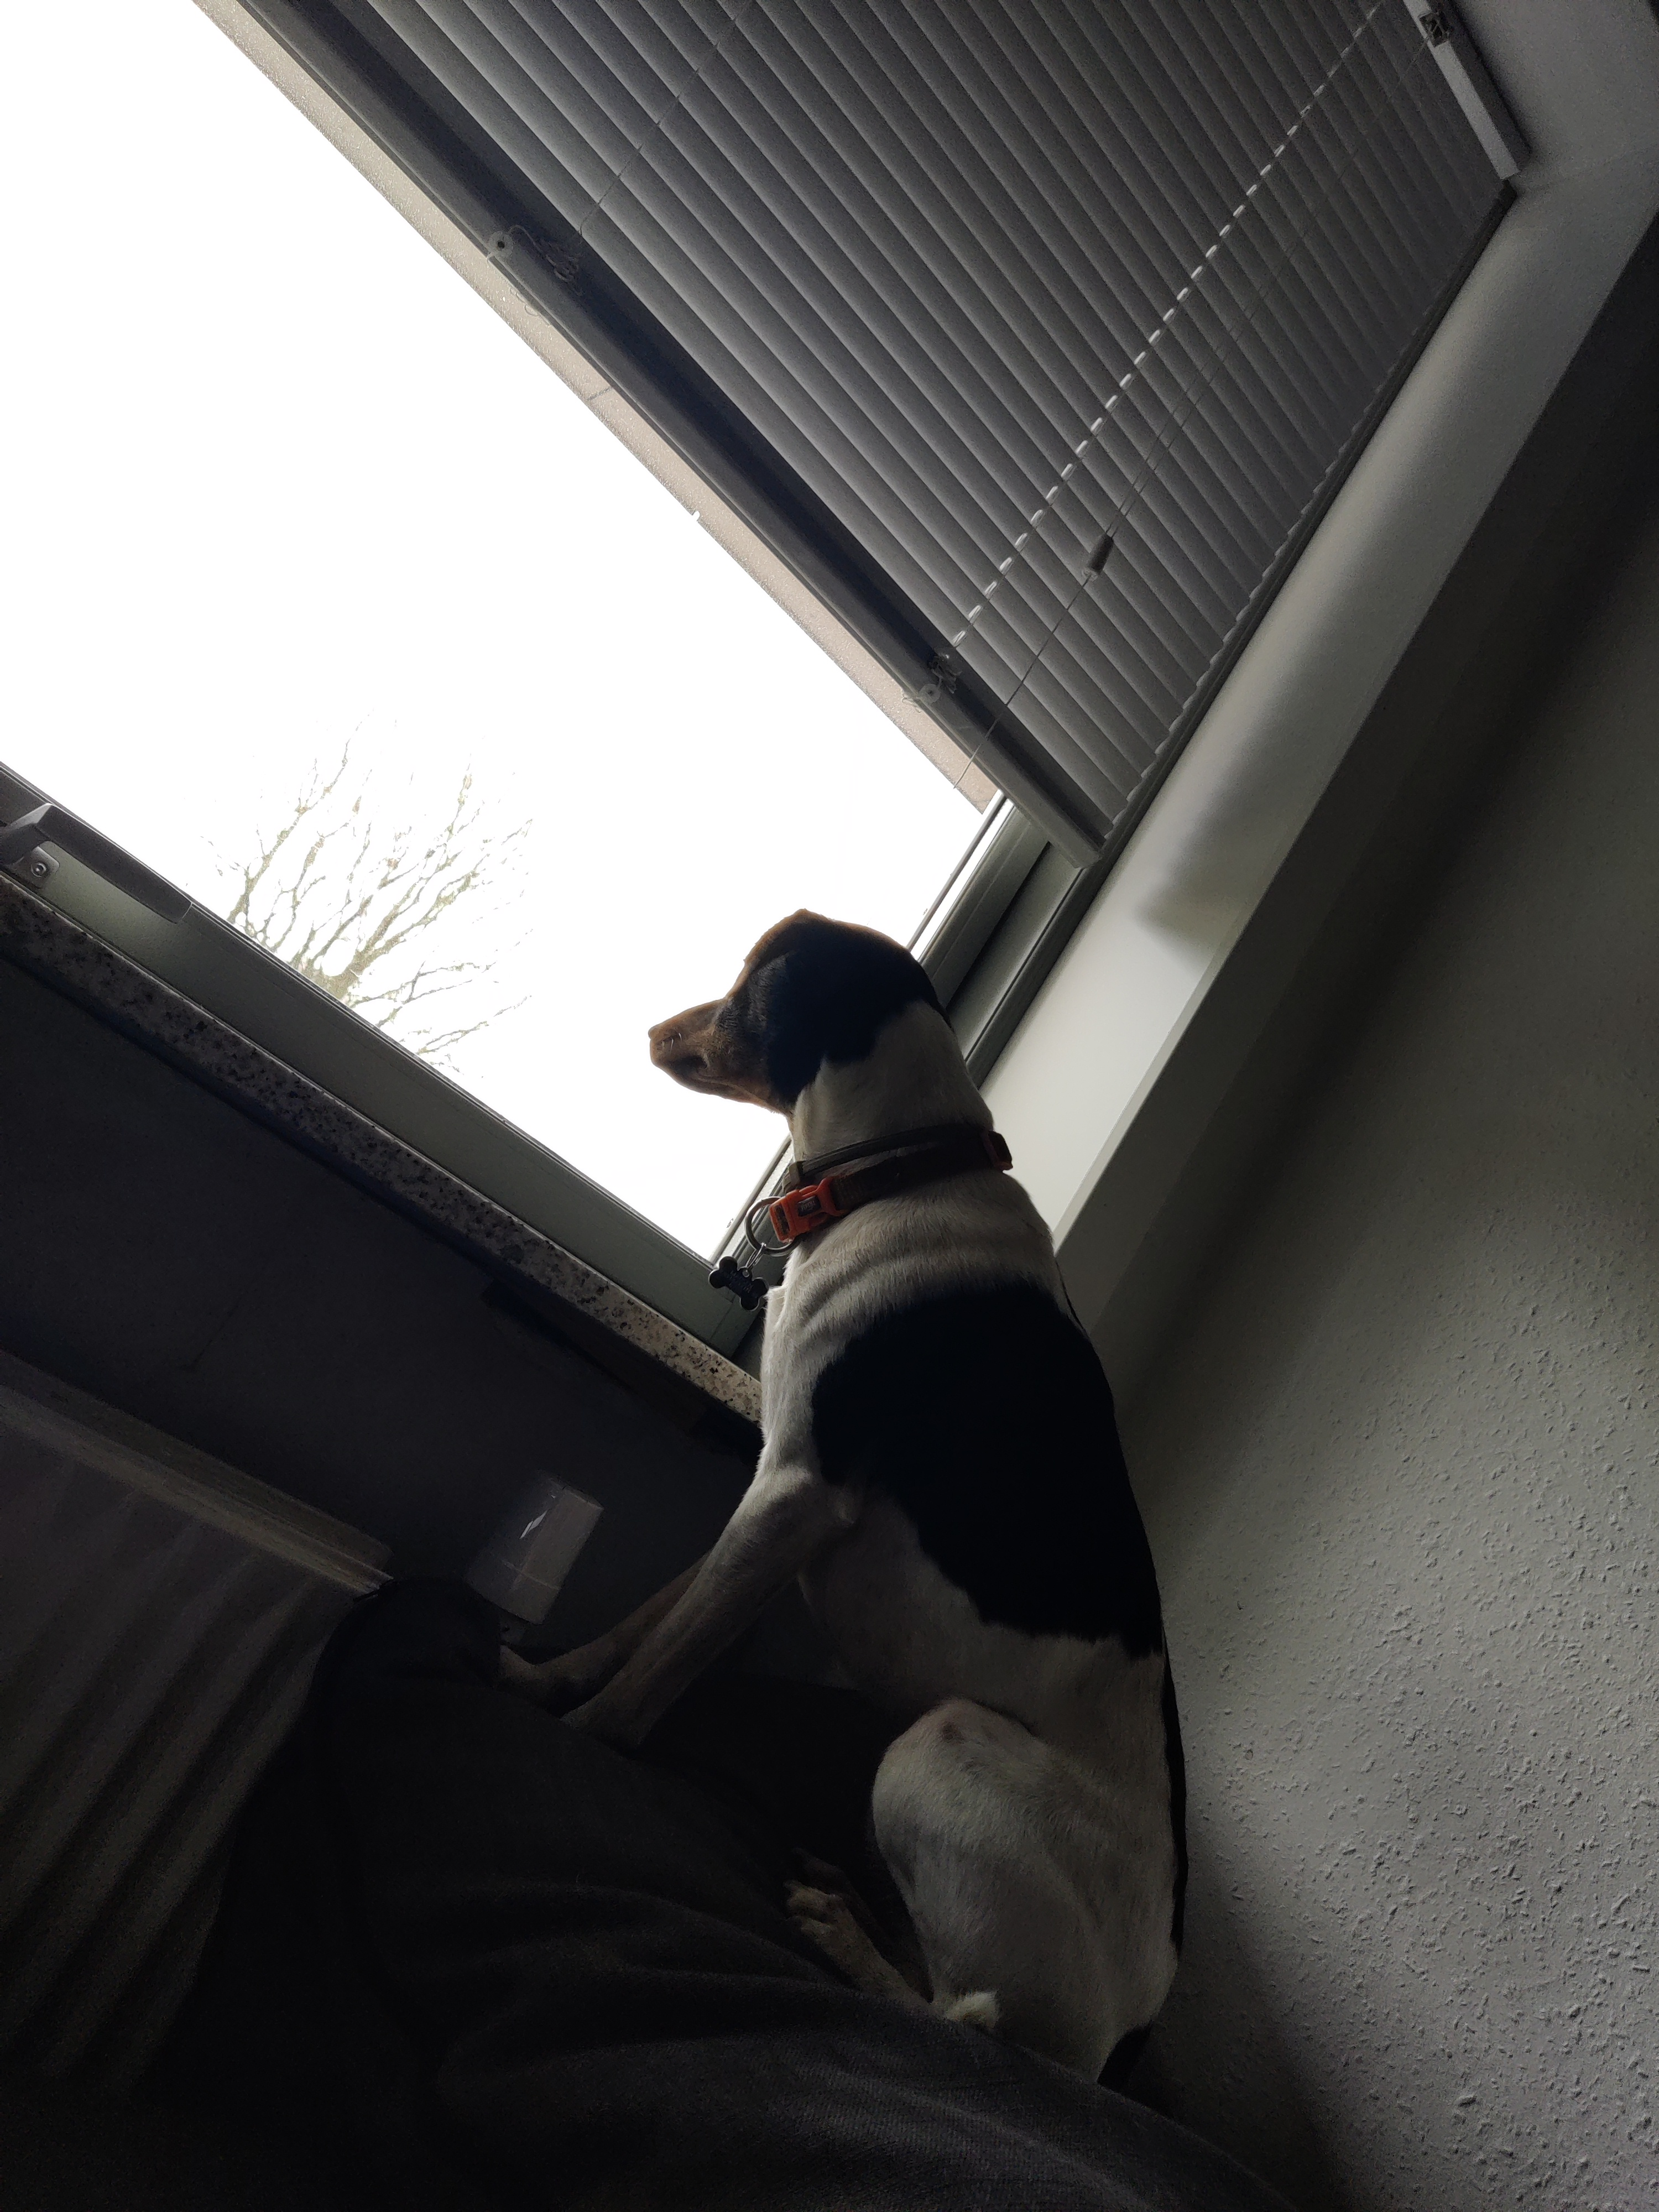Dog: (467, 890, 1194, 2106)
